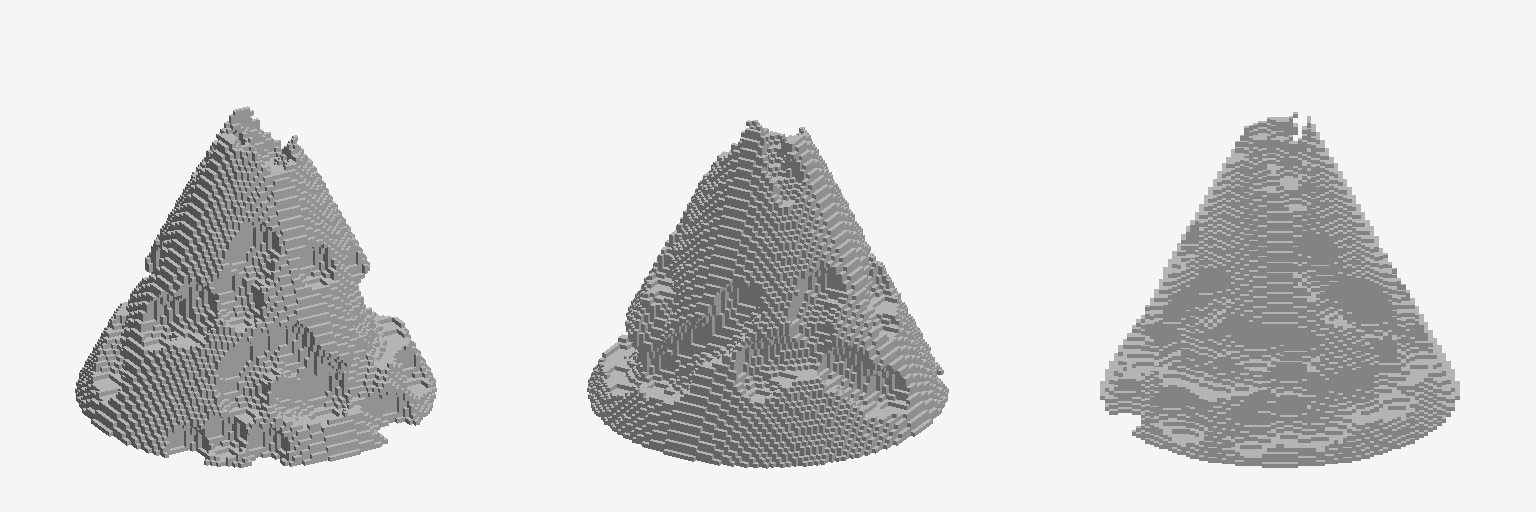
The model's file is vulcan.obj.
The picture shows the model from 3 angles: view 1: azimuth 30°, elevation 25°; view 2: azimuth 150°, elevation 25°; view 3: azimuth 270°, elevation 25°; orthographic projection.
Visible parts, largest first — view 1: object 1; view 2: object 1; view 3: object 1.
Part boxes in pixels (x1,y1,x2,y2): object 1: (75,106,436,467); object 1: (587,120,948,468); object 1: (1100,112,1459,467).
Bounding box in the file's own units: 8 × 6.7 × 8.